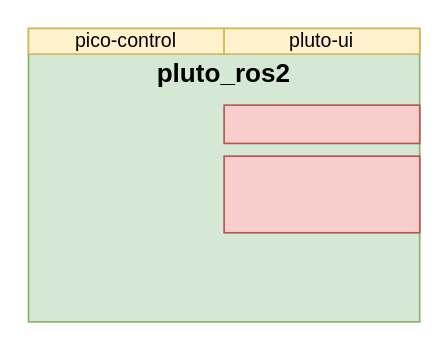
This 448x350 diagram has some shape labels left out. The centre of each missing label's shape, as x and y in pixels:
LD19 LiDAR Sensor: point (321, 194)
sensors: point (321, 123)
